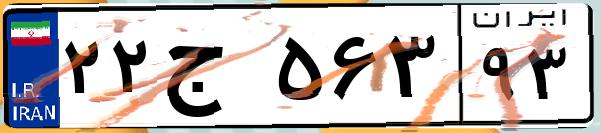2: (57, 26, 110, 100), (110, 28, 158, 98)
3: (385, 28, 445, 110), (525, 38, 570, 115)
5: (270, 28, 330, 110)
6: (330, 28, 385, 110)
9: (475, 38, 525, 113)
ج: (158, 20, 270, 120)
